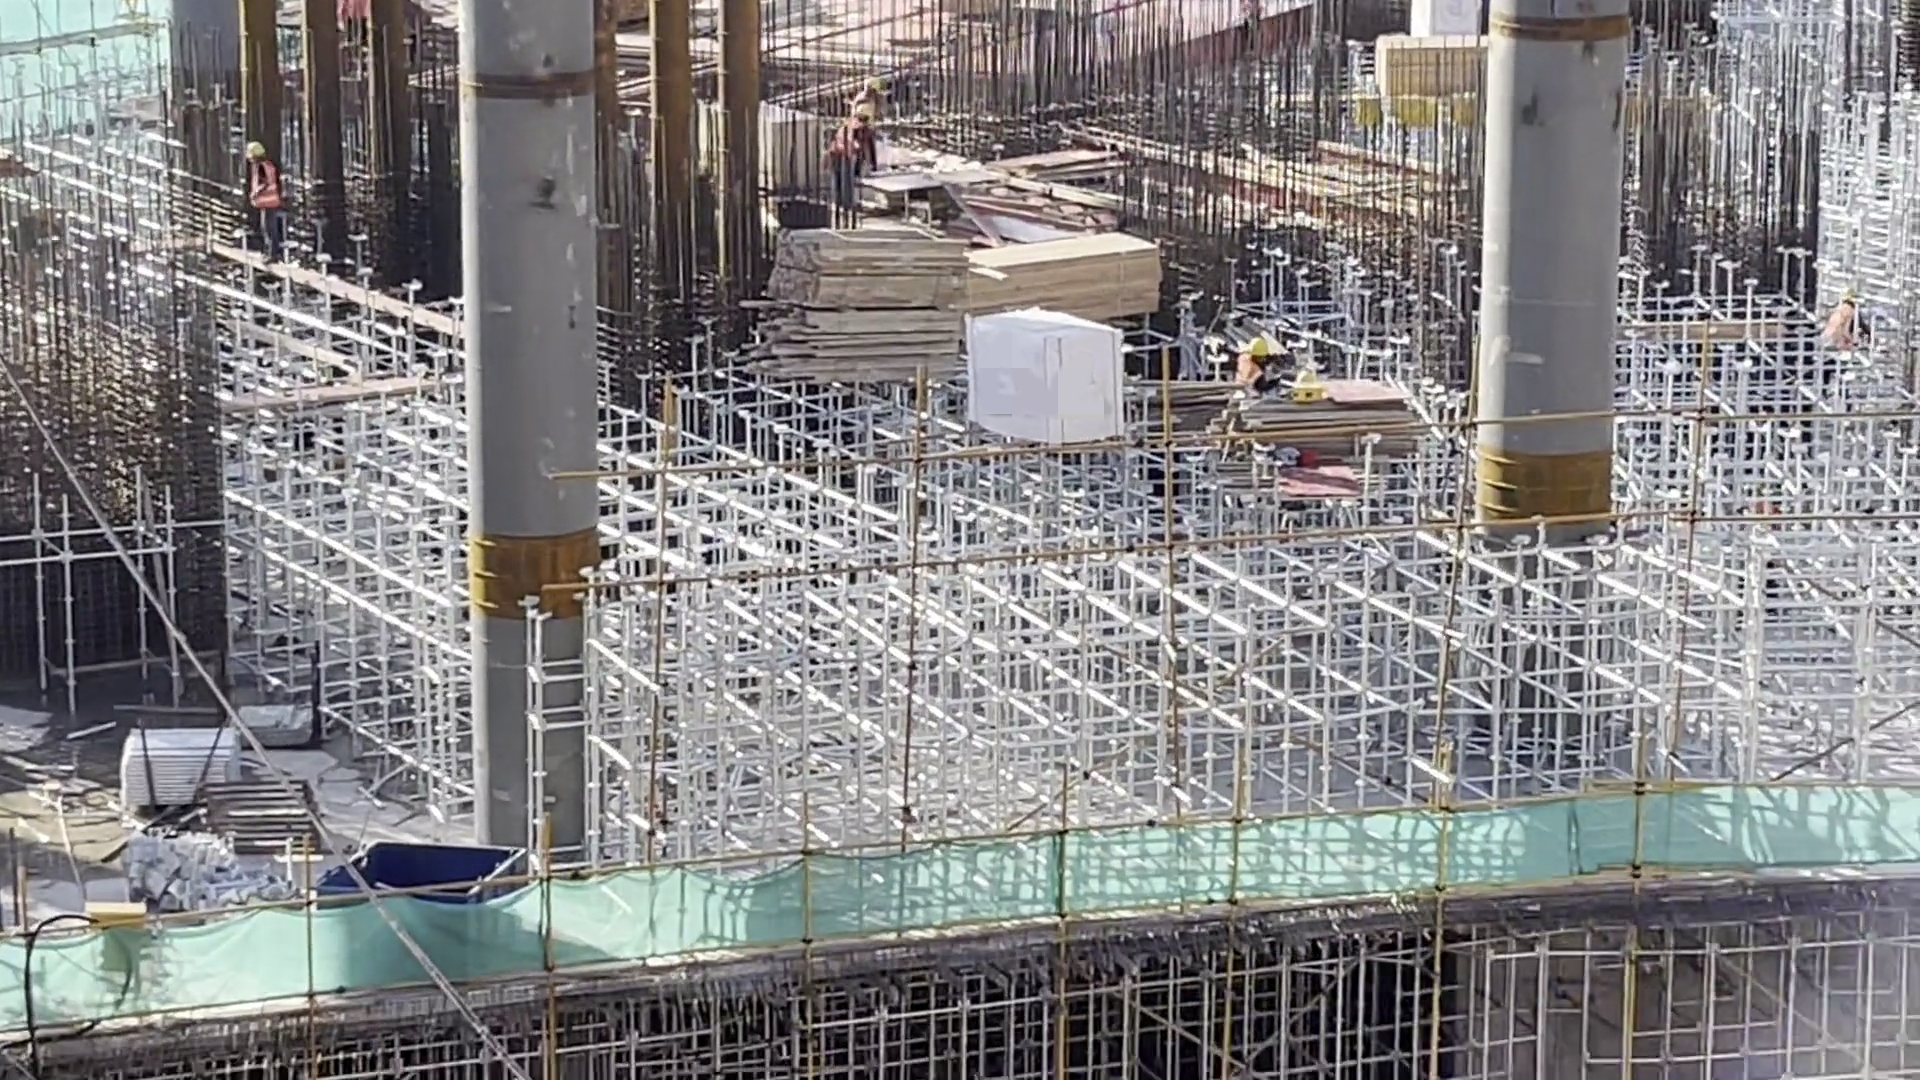board: (1238, 359, 1406, 481), (709, 92, 834, 199)
ebox: (88, 899, 143, 982)
helmet: (240, 143, 266, 159), (1253, 335, 1267, 365), (865, 74, 882, 91), (1841, 291, 1860, 304), (857, 109, 871, 120)
person: (826, 118, 871, 215), (1829, 288, 1873, 380), (243, 153, 278, 255), (856, 83, 889, 178), (1244, 328, 1286, 376)
scaffold: (131, 721, 283, 804)
vest: (249, 171, 283, 217), (1828, 313, 1864, 346), (827, 126, 862, 159), (859, 104, 877, 142), (1239, 366, 1269, 386)
wood: (753, 232, 954, 377), (1383, 12, 1506, 136), (984, 236, 1149, 319)
